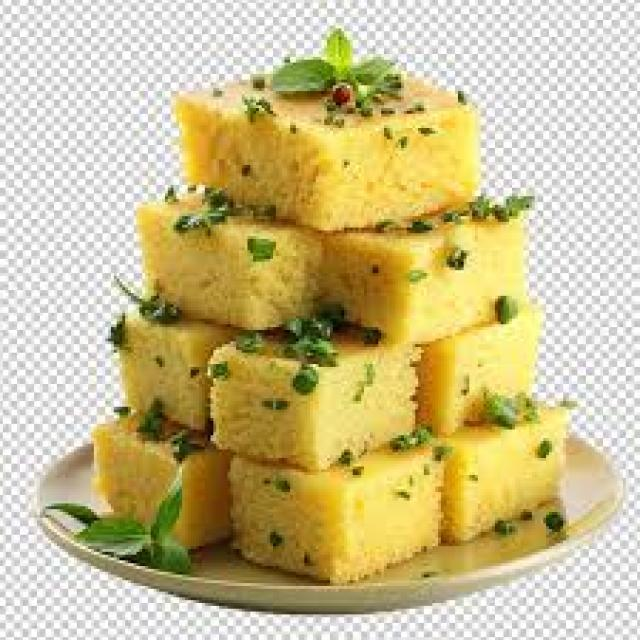DHOKLA: (182, 52, 470, 240), (325, 198, 526, 344), (216, 334, 416, 475), (237, 441, 440, 578), (144, 192, 322, 330), (439, 399, 565, 547), (95, 414, 230, 546), (114, 300, 234, 437), (421, 309, 543, 439)
